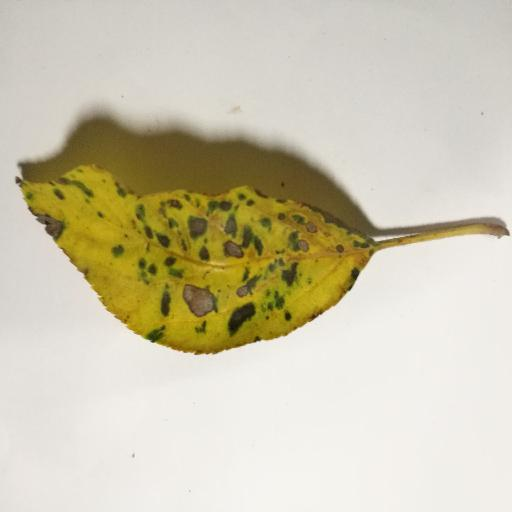Brown_Spot: (307, 219, 359, 255), (177, 285, 219, 318), (28, 209, 62, 243), (223, 232, 248, 256), (292, 238, 308, 258), (188, 217, 203, 237), (235, 285, 250, 300), (166, 195, 183, 208)
